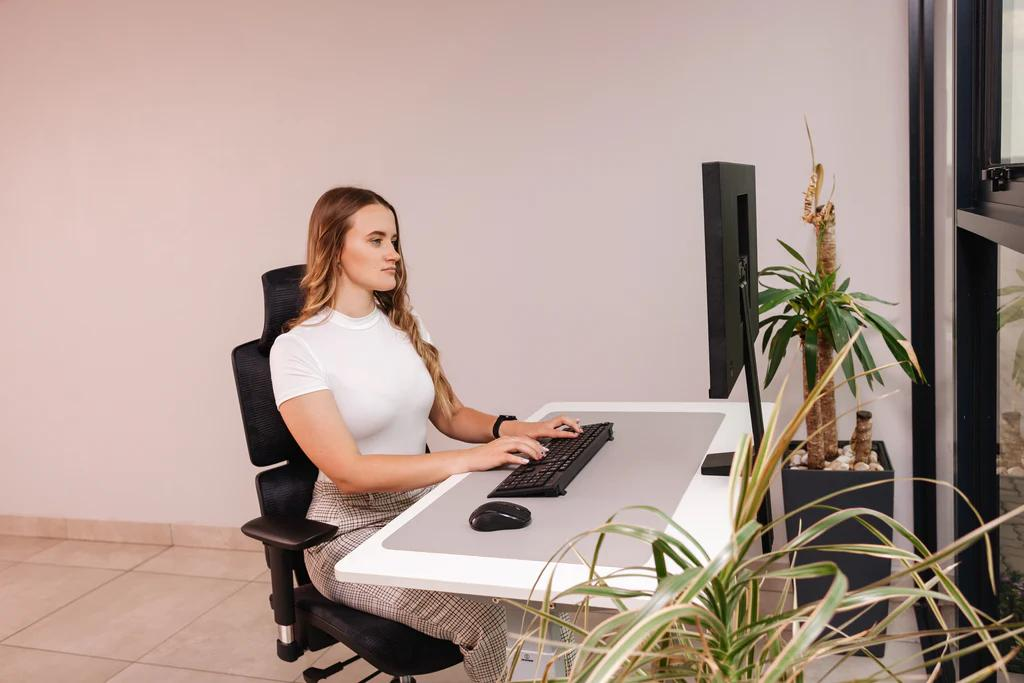Good Sitting Posture: (264, 183, 587, 680)
